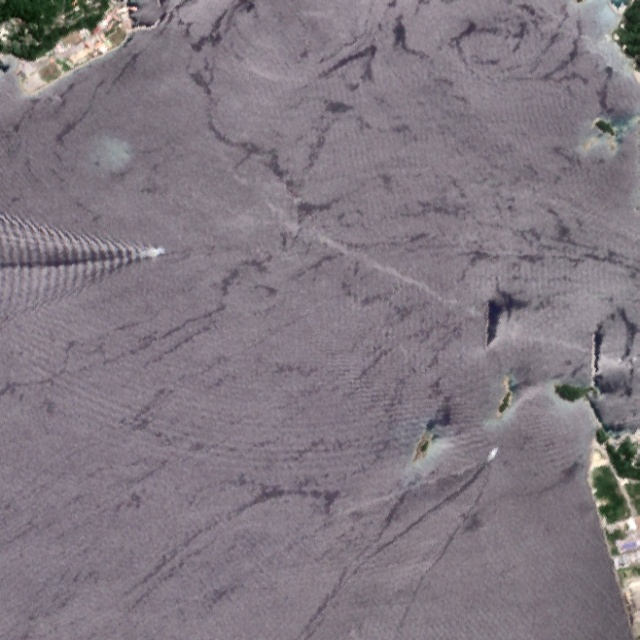wake: (43, 212, 172, 304)
